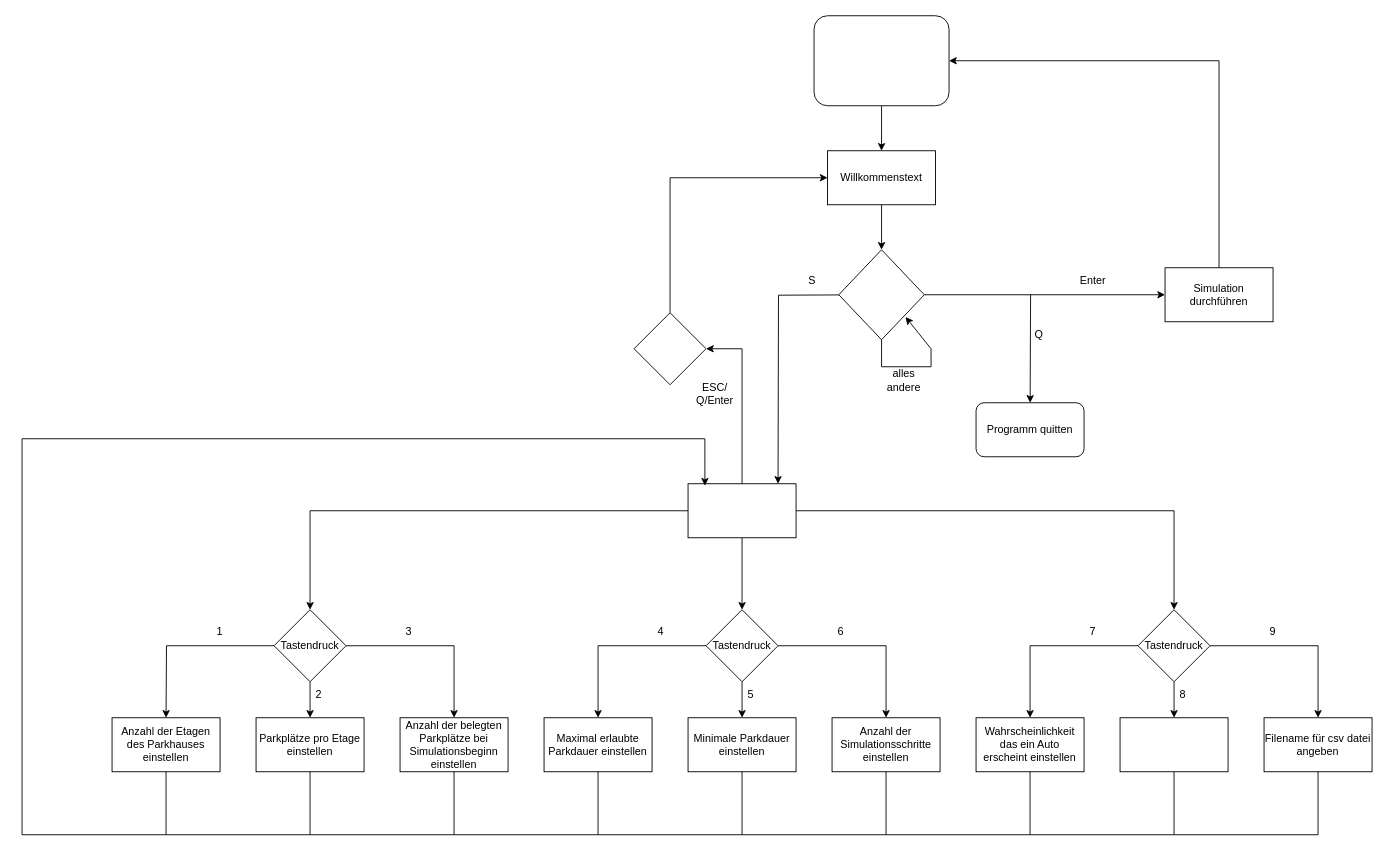
Image size: 1388x858. Some labels were removed from this diagram. Each missing label, with the box of its shape:
Config Menü rendern: (687, 483, 796, 538)
Letzte Simulation geendet/ Programm gerade gestartet: (813, 15, 949, 106)
Seed angeben: (1119, 717, 1228, 772)
Tasterndruck: (633, 312, 706, 385)
User drückt Tasten: (838, 249, 924, 340)
